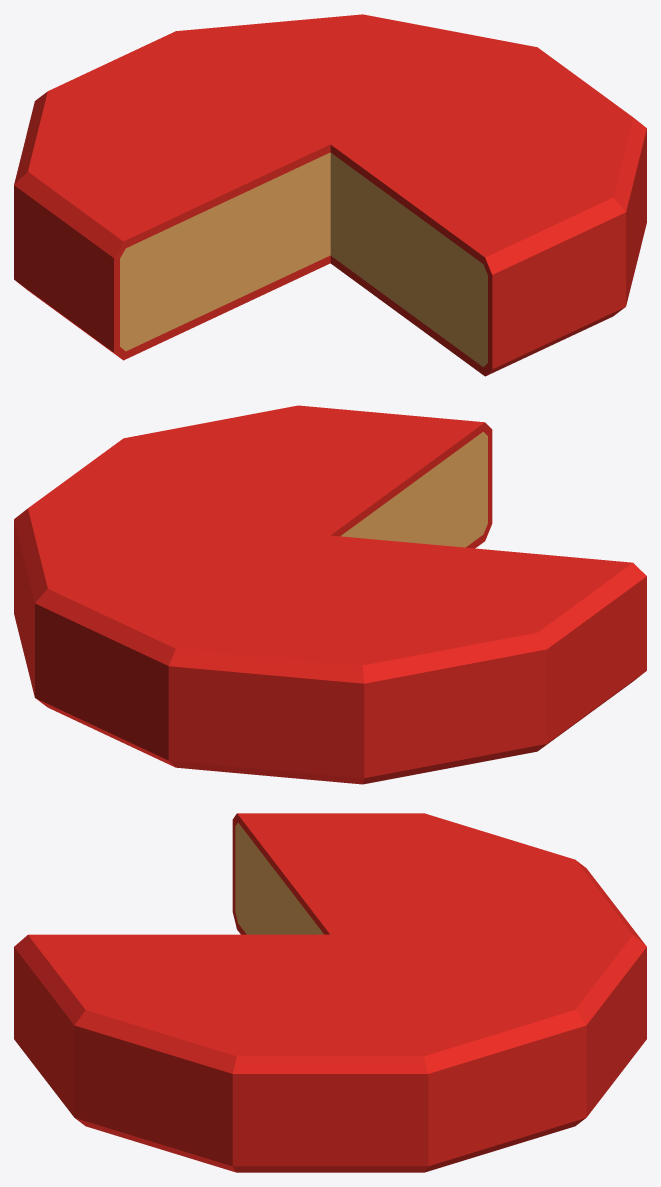
The model's file is CheeseWheel.fbx.
The picture shows the model from 3 angles, top to bottom: view 1: azimuth 30°, elevation 25°; view 2: azimuth 150°, elevation 25°; view 3: azimuth 270°, elevation 25°; orthographic projection. The views are drawn at different scales.
Parts seen in each view (by area): view 1: Cylinder.003, Cylinder.005; view 2: Cylinder.003, Cylinder.005; view 3: Cylinder.003, Cylinder.005.
Part boxes in pixels (x1,y1,x2,y2): Cylinder.003: (14, 14, 646, 376); Cylinder.005: (120, 152, 487, 367); Cylinder.003: (14, 405, 646, 784); Cylinder.005: (340, 431, 487, 547); Cylinder.003: (14, 813, 646, 1172); Cylinder.005: (235, 822, 323, 934).
Bounding box in the file's own units: 84.78 × 18.08 × 89.15.
